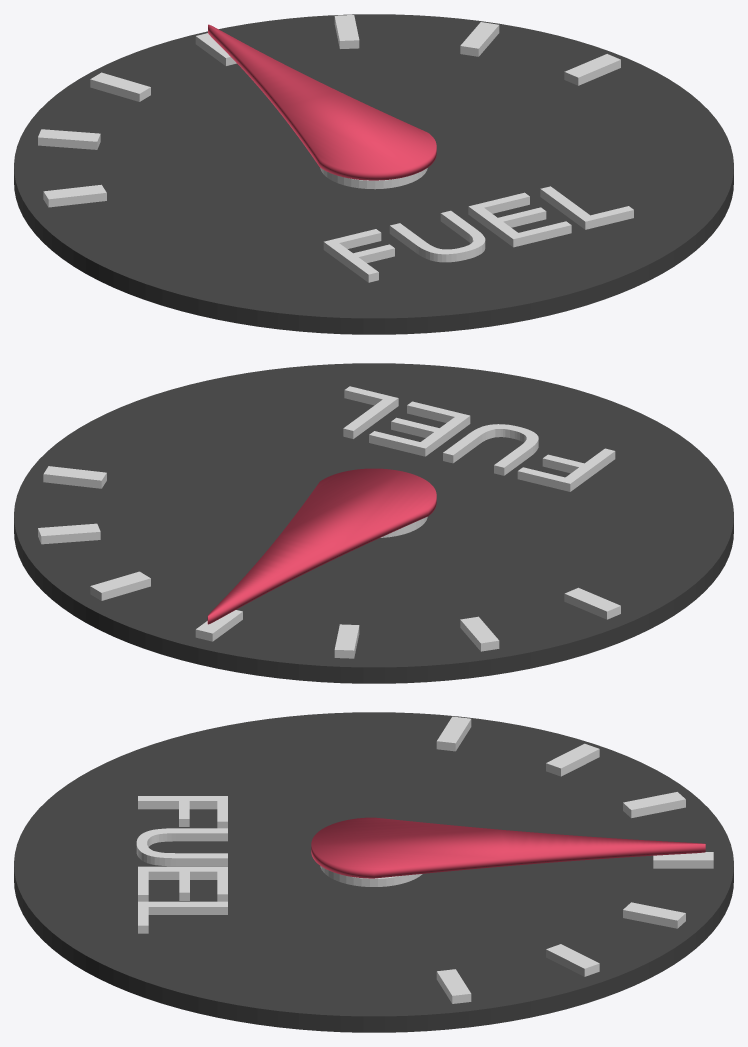
File: FuelFBX.fbx
3 renders of one model, top to bottom at view 1: azimuth 30°, elevation 25°; view 2: azimuth 150°, elevation 25°; view 3: azimuth 270°, elevation 25°, orthographic.
Parts seen in each view (by area): view 1: Fuel_base_STL, Fuel_Marker_STL; view 2: Fuel_base_STL, Fuel_Marker_STL; view 3: Fuel_base_STL, Fuel_Marker_STL.
Part boxes in pixels (x1,y1,x2,y2): Fuel_base_STL: (14,14,733,334); Fuel_Marker_STL: (208,24,436,180); Fuel_base_STL: (14,363,733,683); Fuel_Marker_STL: (207,468,436,624); Fuel_base_STL: (14,712,733,1032); Fuel_Marker_STL: (311,817,705,878).
Bounding box in the file's own units: 7998 × 450 × 7999.
